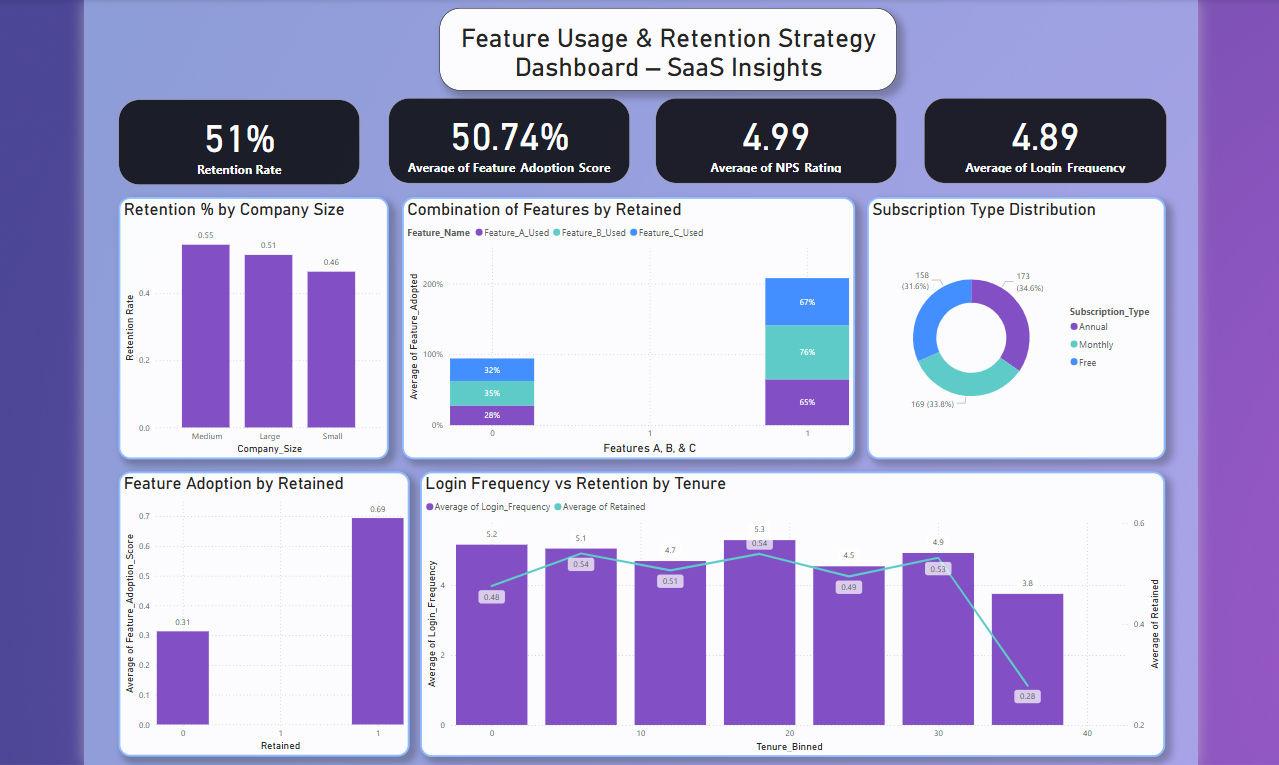

The dashboard page shown, as its layout file describes it:
{"tool":"powerbi","page":{"name":"Page 1","canvas":[1600,1100],"ordinal":0},"visuals":[{"type":"columnChart","title":"Combination of Features by Retained","fields":{"Category":["Feature_Usage_Retention_Dataset.Retained"],"Y":["Avg(Feature_Usage_Retention_Dataset.Feature_Adopted)"],"Series":["Feature_Usage_Retention_Dataset.Feature_Name"]},"box":[456.7,284.3,650.5,377],"z":0},{"type":"card","fields":{"Values":["Feature_Usage_Retention_Dataset.Retention Rate"]},"box":[49.5,144.3,346.8,122.8],"z":1000},{"type":"card","fields":{"Values":["Avg(Feature_Usage_Retention_Dataset.Feature_Adoption_Score)"]},"box":[436.6,142.9,346.8,122.8],"z":2000},{"type":"card","fields":{"Values":["Avg(Feature_Usage_Retention_Dataset.NPS_Rating)"]},"box":[820,142.9,346.8,122.8],"z":3000},{"type":"card","fields":{"Values":["Avg(Feature_Usage_Retention_Dataset.Login_Frequency)"]},"box":[1205.6,142.9,349,122.8],"z":4000},{"type":"clusteredColumnChart","title":"Retention % by Company Size","fields":{"Category":["Feature_Usage_Retention_Dataset.Company_Size"],"Y":["Feature_Usage_Retention_Dataset.Retention Rate"]},"box":[49.5,284.3,387.7,377],"z":5000},{"type":"lineStackedColumnComboChart","title":"Login Frequency vs Retention by Tenure","fields":{"Y":["Avg(Feature_Usage_Retention_Dataset.Login_Frequency)"],"Y2":["Avg(Feature_Usage_Retention_Dataset.Retained)"],"Category":["Feature_Usage_Retention_Dataset.Tenure_Binned"]},"box":[482.5,677.5,1070,410],"z":6000},{"type":"donutChart","title":"Subscription Type Distribution","fields":{"Category":["Feature_Usage_Retention_Dataset.Subscription_Type"],"Y":["Count(Feature_Usage_Retention_Dataset.Customer_ID)"]},"box":[1124.4,284.3,428.7,377],"z":7000},{"type":"columnChart","title":"Feature Adoption by Retained","fields":{"Category":["Feature_Usage_Retention_Dataset.Retained"],"Y":["Avg(Feature_Usage_Retention_Dataset.Feature_Adoption_Score)"]},"box":[49.5,678.5,417.9,409.3],"z":8000},{"type":"textbox","title":"Feature Usage & Retention Strategy Dashboard – SaaS Insights","box":[510,14,657,118.5],"z":9000}]}

Visuals, with their boxes in screenshot pixels (x1, y1, x2, y2):
"Combination of Features by Retained" columnChart: 404/199/850/458
card - Feature_Usage_Retention_Dataset.Retention Rate: 124/102/362/187
card - Avg(Feature_Usage_Retention_Dataset.Feature_Adoption_Score): 390/101/628/186
card - Avg(Feature_Usage_Retention_Dataset.NPS_Rating): 653/101/891/186
card - Avg(Feature_Usage_Retention_Dataset.Login_Frequency): 918/101/1158/186
"Retention % by Company Size" clusteredColumnChart: 124/199/390/458
"Login Frequency vs Retention by Tenure" lineStackedColumnComboChart: 421/469/1156/750
"Subscription Type Distribution" donutChart: 862/199/1157/458
"Feature Adoption by Retained" columnChart: 124/469/411/750
"Feature Usage & Retention Strategy Dashboard – SaaS Insights" textbox: 440/13/891/94
